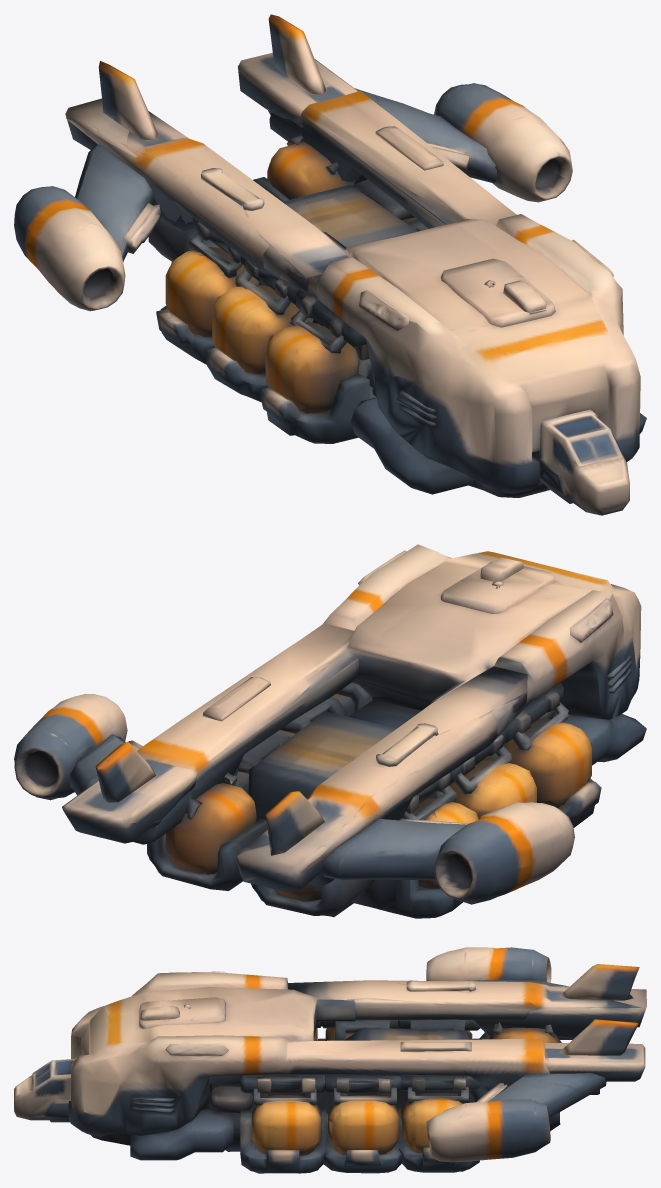
Rendered from tanker_game.glb.
3 views of the same model, one above another, from view 1: azimuth 30°, elevation 25°; view 2: azimuth 150°, elevation 25°; view 3: azimuth 270°, elevation 25° (orthographic). The views are drawn at different scales.
Visible parts, largest first — view 1: Tanker_Rescue_Static; view 2: Tanker_Rescue_Static; view 3: Tanker_Rescue_Static.
Boxes of the visible parts, bbox=[...] form: Tanker_Rescue_Static: bbox=[14, 14, 646, 515]; Tanker_Rescue_Static: bbox=[14, 544, 646, 918]; Tanker_Rescue_Static: bbox=[14, 947, 646, 1173].
Bounding box in the file's own units: 6.44 × 2.71 × 9.57.
1 material, 1 textured.
